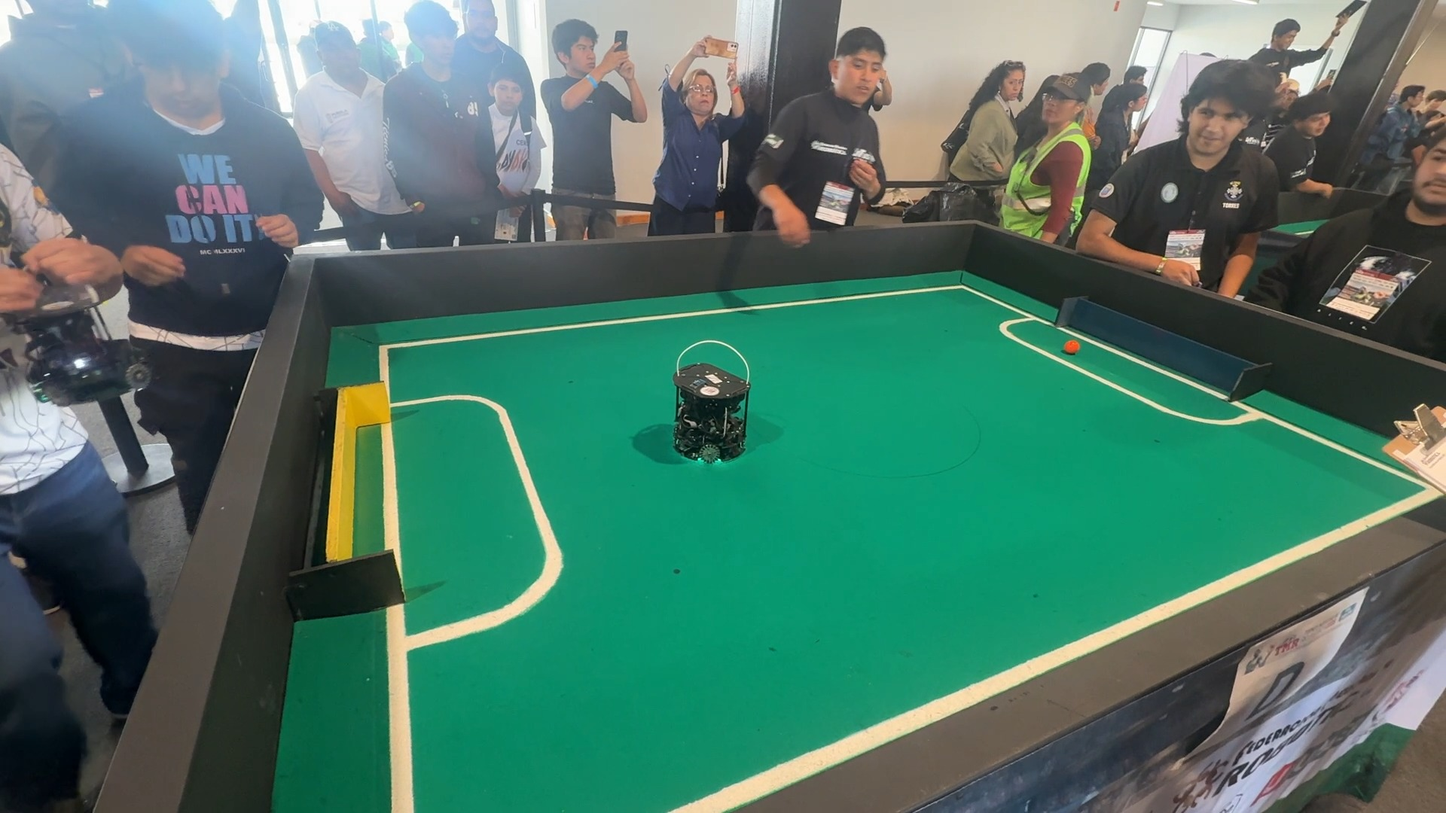Robot: (634, 337, 786, 476)
pelota: (1058, 341, 1082, 359)
